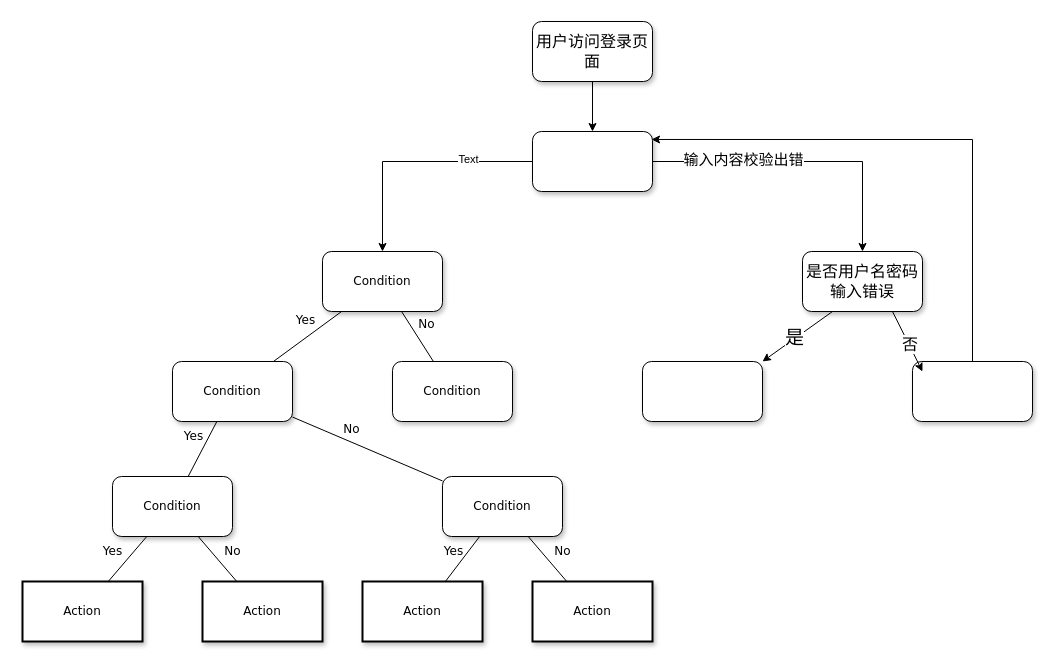
The diagram is 1056 pixels wide and 667 high, and some of its shapes have lost their labels. Each missing label, with the centre of its shape:
"输入用户名，密码，验证码，点击“登录”" belongs at point 593,162.
"错误次数超过系统设置次数，提示24小时后再试" belongs at point 703,392.
"验证码错误" belongs at point 973,392.
